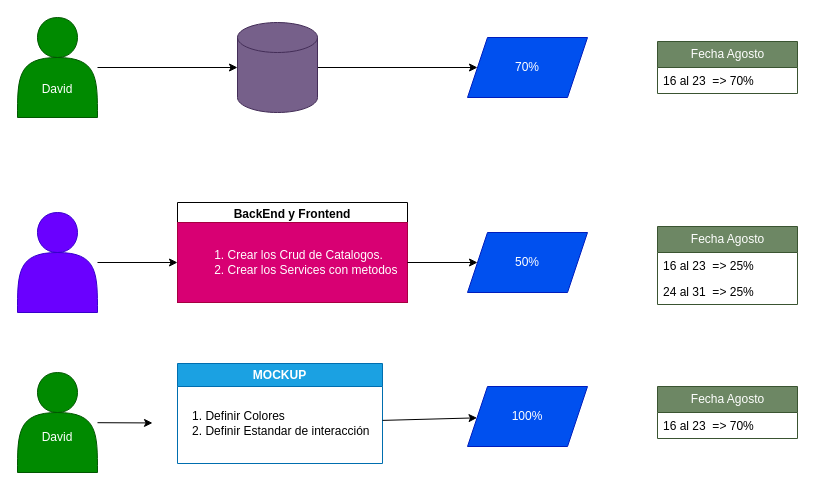
The diagram is 815 pixels wide and 490 high, and some of its shapes have lost their labels. Here are the shapes that lost their labels. From the top down, the centre of each, then its label:
(x=277, y=67): Diseñar la base de Datos
(x=57, y=262): Ruth
